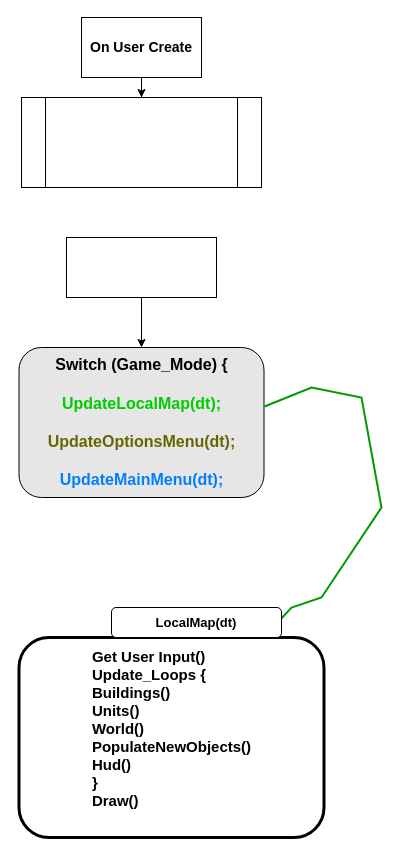
Some shapes in this 400 by 856 pixel diagram are drawn without their labels. Here are the shapes that lost their labels. From the top down, the box of each, then its label:
(20, 96, 262, 188): Load Assets from Asset Manager Map Controler
(66, 236, 216, 298): On User Update() GAME LOOP
